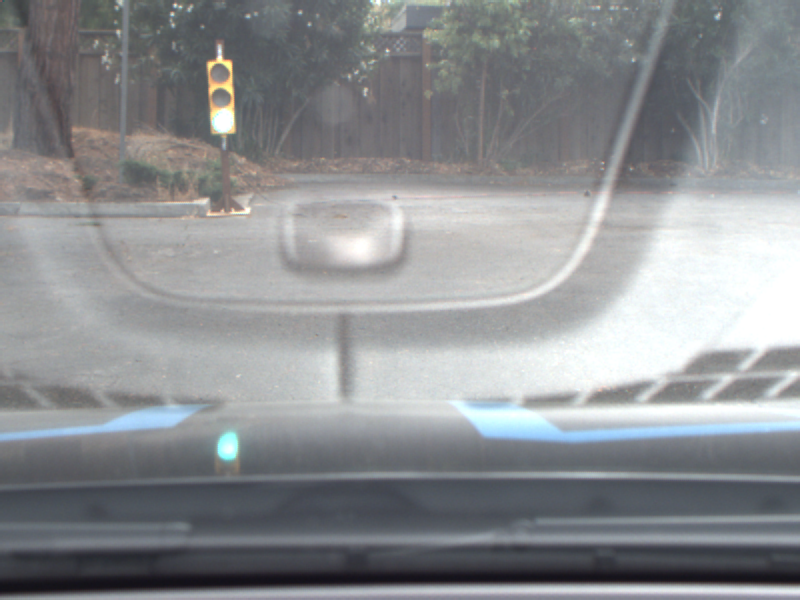green: (206, 62, 237, 133)
